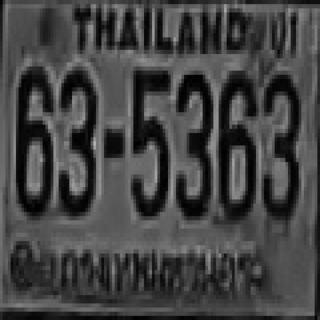N03: (56, 65, 96, 214), (173, 71, 211, 216), (260, 71, 297, 216)
N05: (129, 66, 169, 216)
N06: (216, 69, 256, 218), (15, 65, 52, 214)
P04: (55, 239, 259, 314)
